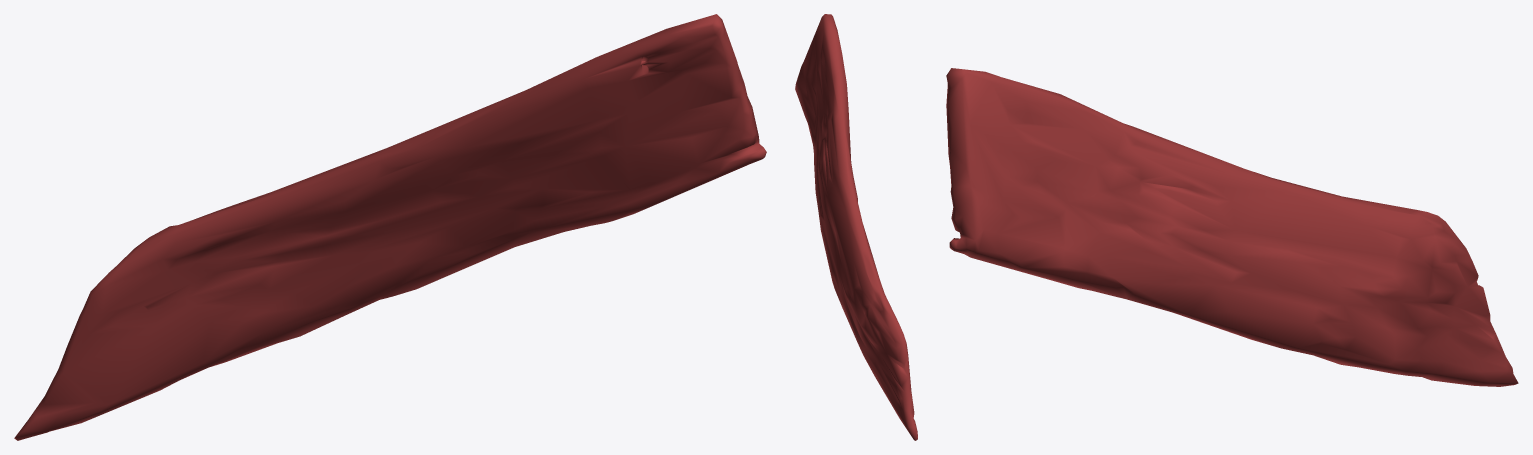
Rendered from teres-major-muscle-l.glb.
The picture shows the model from 3 angles, left to right: view 1: azimuth 30°, elevation 25°; view 2: azimuth 150°, elevation 25°; view 3: azimuth 270°, elevation 25°; orthographic projection. The views are drawn at different scales.
Parts seen in each view (by area): view 1: Teres major muscle.l; view 2: Teres major muscle.l; view 3: Teres major muscle.l.
Part boxes in pixels (<box>): Teres major muscle.l: <box>14,14,766,440</box>; Teres major muscle.l: <box>795,14,917,440</box>; Teres major muscle.l: <box>946,68,1518,386</box>.
Bounding box in the file's own units: 0.0856 × 0.0861 × 0.0827.
